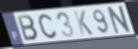3: (56, 11, 74, 38)
9: (92, 8, 111, 35)
B: (16, 15, 40, 42)
C: (37, 13, 58, 40)
K: (72, 10, 95, 37)
N: (106, 4, 133, 35)
